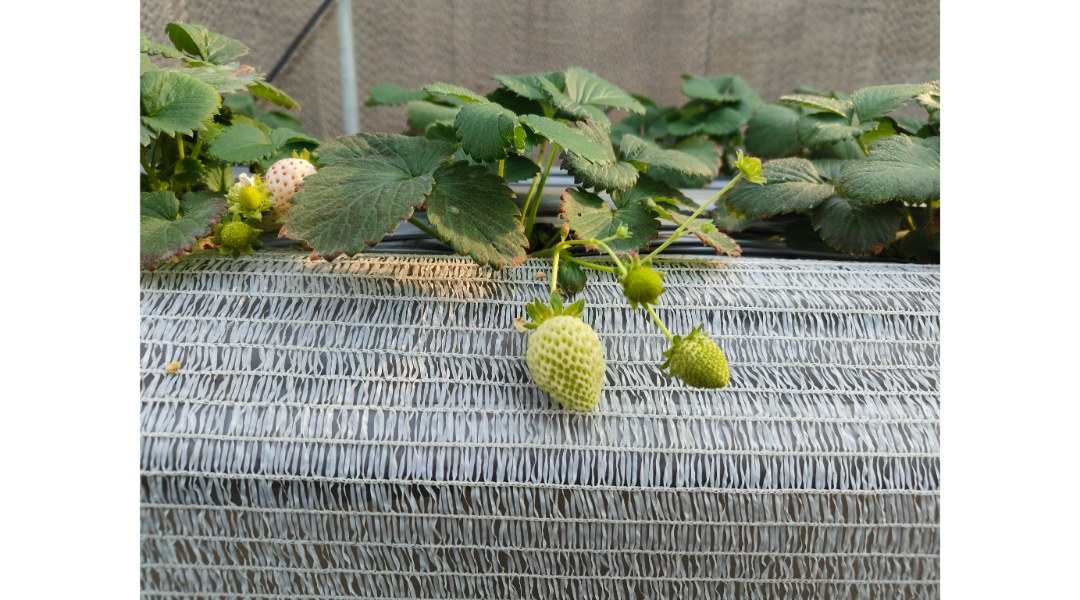berry: (508, 291, 612, 426), (252, 141, 322, 220), (651, 326, 739, 388), (228, 168, 280, 219), (620, 259, 665, 312), (217, 207, 251, 265), (729, 144, 775, 178)
strain: (643, 171, 743, 268), (546, 247, 564, 308), (571, 255, 609, 276)
